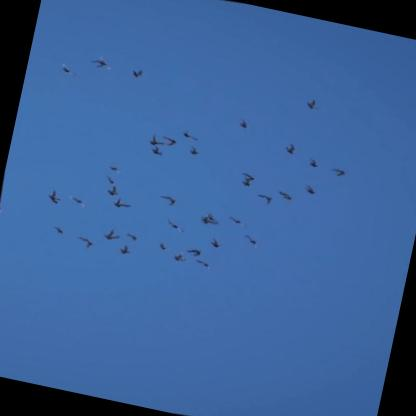bird: (85, 52, 112, 73), (106, 194, 132, 212), (63, 191, 86, 210), (99, 225, 123, 243), (142, 131, 167, 148), (196, 214, 220, 231), (40, 187, 61, 206), (179, 127, 202, 143), (253, 191, 274, 208), (57, 61, 78, 78), (225, 214, 247, 230), (158, 132, 178, 148), (74, 235, 94, 251), (241, 234, 261, 249), (166, 219, 187, 233), (281, 141, 299, 157), (205, 236, 223, 252), (158, 193, 180, 206), (170, 250, 189, 265), (192, 257, 212, 271), (329, 164, 347, 179), (301, 98, 319, 112), (185, 144, 203, 158), (101, 183, 119, 197), (274, 189, 293, 202), (305, 156, 321, 171), (116, 243, 132, 258), (183, 246, 201, 259), (129, 67, 145, 81), (299, 183, 316, 196), (235, 116, 250, 130), (149, 144, 165, 157), (105, 164, 121, 177), (101, 173, 117, 186), (239, 171, 256, 183), (122, 231, 137, 244), (237, 177, 253, 189), (50, 225, 65, 237), (202, 212, 216, 222), (156, 242, 168, 251)
